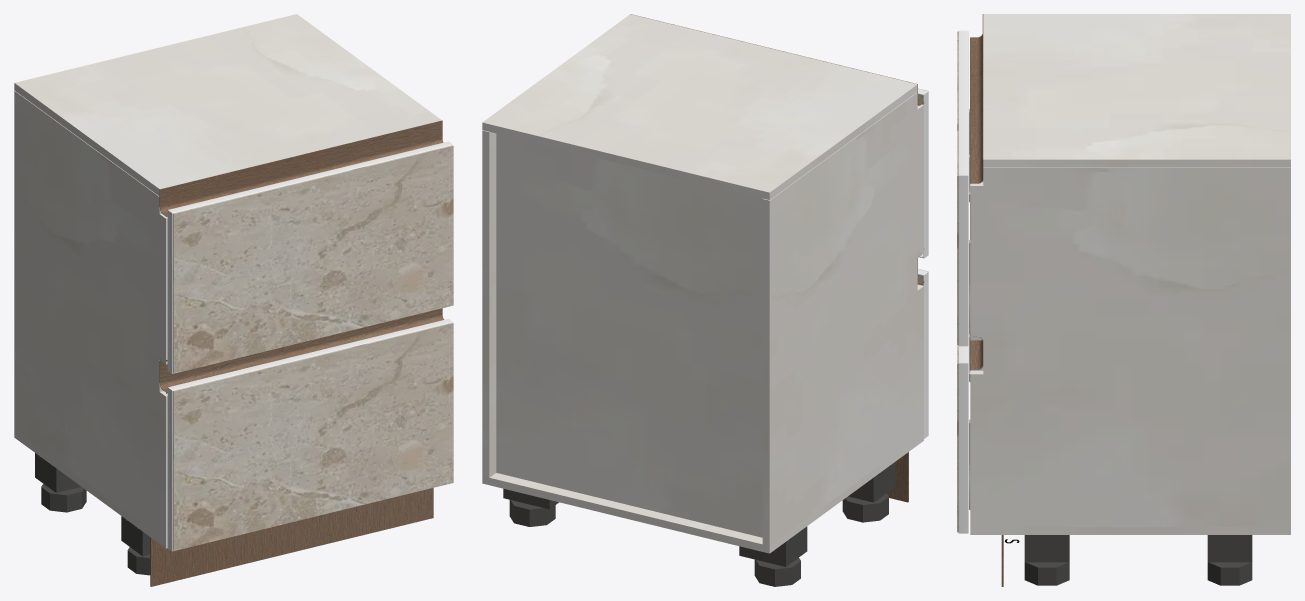
3 views of the same model, side by side, from view 1: azimuth 30°, elevation 25°; view 2: azimuth 150°, elevation 25°; view 3: azimuth 270°, elevation 25° (orthographic). The views are drawn at different scales.
Size of what is drawn, in the model's own units: 0.6 by 0.82 by 0.5809.
Materials: 7 (3 with a texture image).
